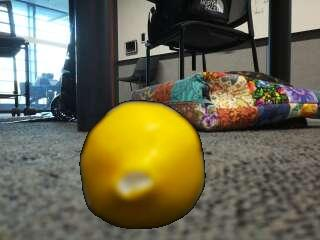lemon: (83, 102, 203, 228)
